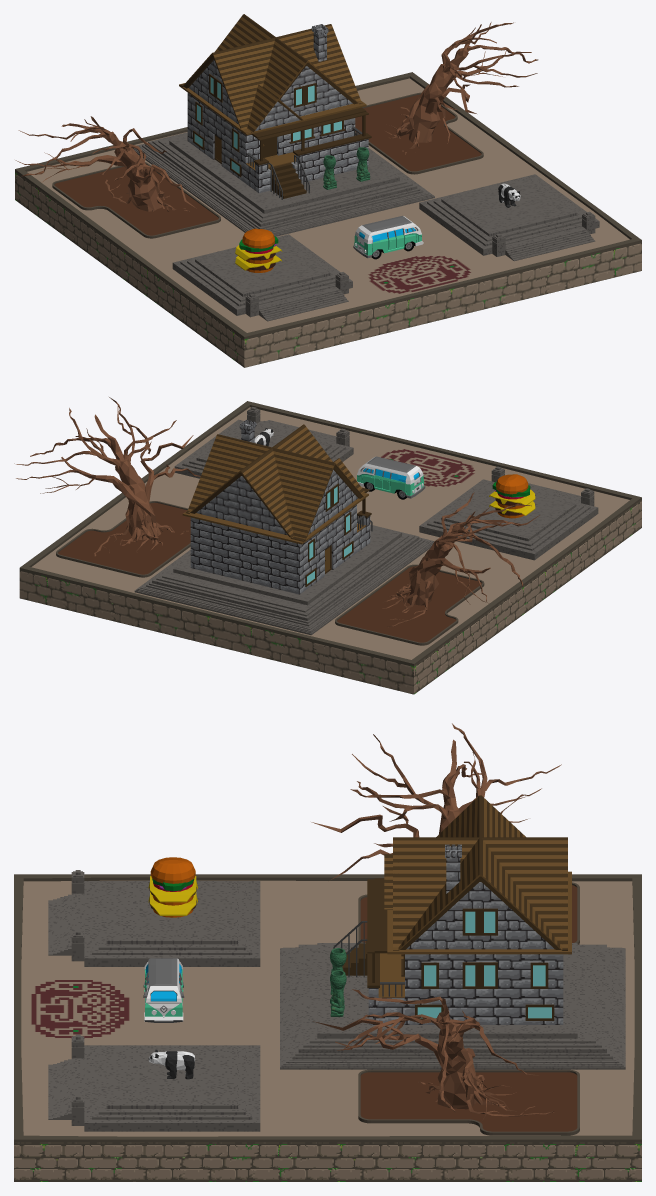
The picture shows the model from 3 angles, top to bottom: view 1: azimuth 30°, elevation 25°; view 2: azimuth 150°, elevation 25°; view 3: azimuth 270°, elevation 25°; orthographic projection. The views are drawn at different scales.
Parts seen in each view (by area): view 1: Cube.011, Cube.586, VEHICLES_VAN, OBJRANDOM_HAMBURGER; view 2: Cube.011, Cube.586, VEHICLES_VAN, OBJRANDOM_HAMBURGER; view 3: Cube.011, Cube.586, OBJRANDOM_HAMBURGER, VEHICLES_VAN, ANIMAL_PANDA.
Boxes of the visible parts, x1,y1,x2,y2 form: Cube.011: (15, 22, 641, 367); Cube.586: (179, 14, 371, 199); VEHICLES_VAN: (353, 215, 423, 259); OBJRANDOM_HAMBURGER: (235, 228, 282, 272); Cube.011: (14, 397, 641, 694); Cube.586: (182, 420, 372, 594); VEHICLES_VAN: (357, 456, 425, 499); OBJRANDOM_HAMBURGER: (489, 474, 535, 518); Cube.011: (14, 723, 641, 1181); Cube.586: (333, 795, 571, 1024); OBJRANDOM_HAMBURGER: (148, 857, 197, 917); VEHICLES_VAN: (143, 958, 184, 1022); ANIMAL_PANDA: (148, 1049, 195, 1079).
Size of the model in its own units: 5099 by 1672 by 4000.
32 materials, 6 textured.
